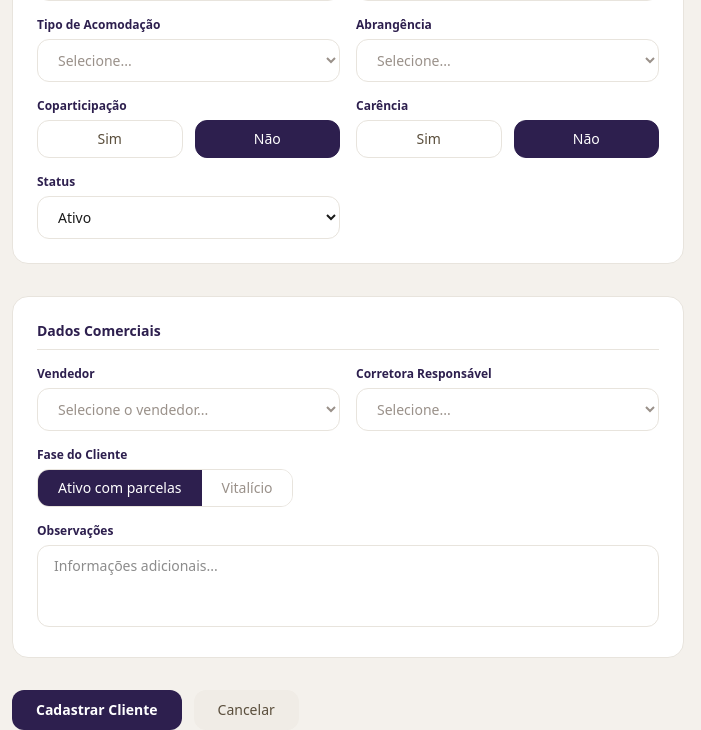
Scenario: ClienteFormPosVenda › shows error when nome is missing
(page scrolled)
Click the button "Cadastrar Cliente": (97, 710) [12,690,182,729]
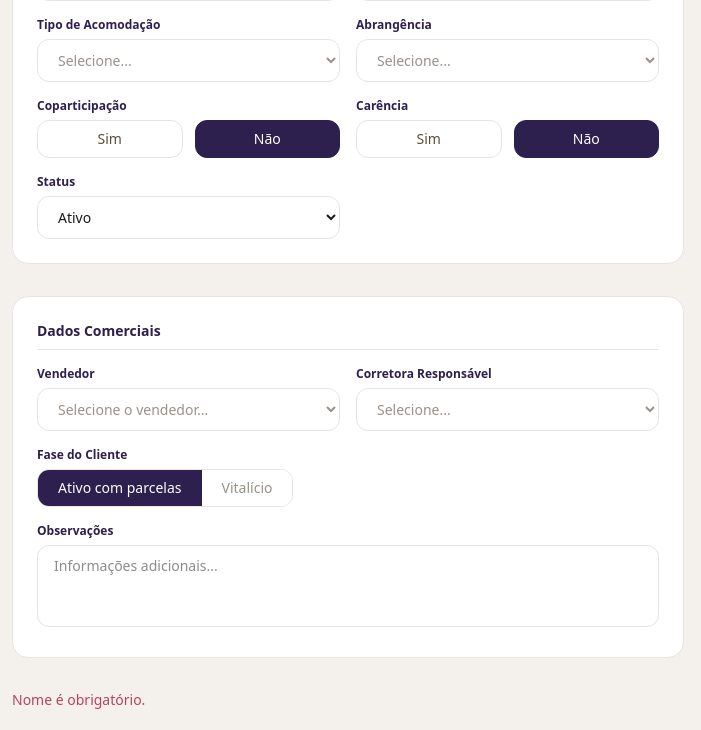
Now the text "Nome é obrigatório." is shown, box [12,690,145,709]
